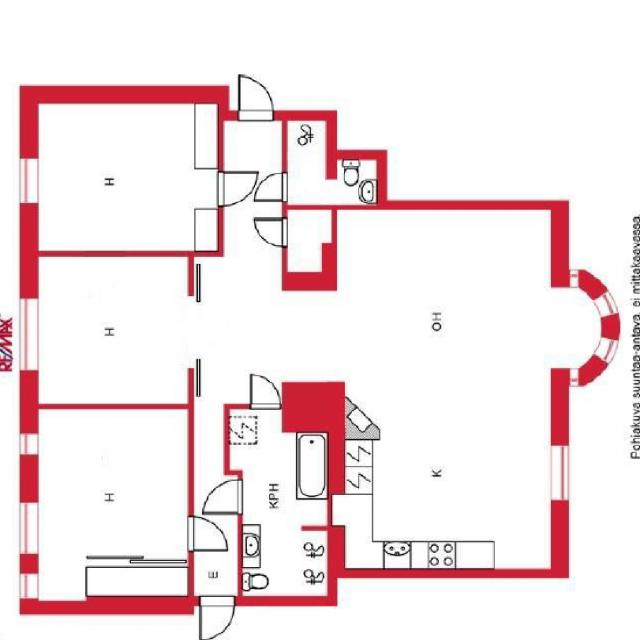door: (199, 596, 235, 640), (239, 76, 274, 120), (218, 172, 258, 206), (204, 480, 243, 513), (188, 516, 225, 548), (254, 218, 288, 247), (254, 172, 288, 200), (253, 377, 280, 409)
